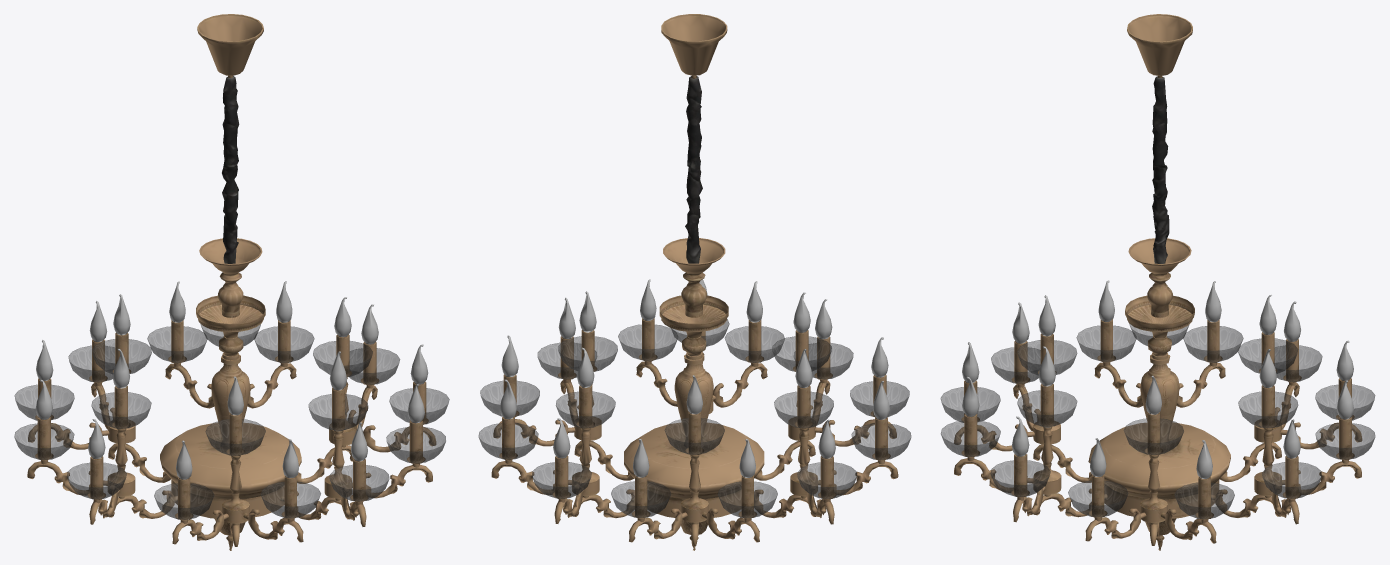
Rendered from Chandelier_03.glb.
3 renders of one model, left to right at view 1: azimuth 30°, elevation 25°; view 2: azimuth 150°, elevation 25°; view 3: azimuth 270°, elevation 25°, orthographic.
Parts seen in each view (by area): view 1: Chandelier_03; view 2: Chandelier_03; view 3: Chandelier_03.
Part boxes in pixels (box(x1,y1,x2,y2)): Chandelier_03: box(14, 14, 449, 550); Chandelier_03: box(478, 14, 911, 550); Chandelier_03: box(940, 14, 1375, 550).
Bounding box in the file's own units: 0.7804 × 1.04 × 0.7853.
2 materials, 2 textured.
